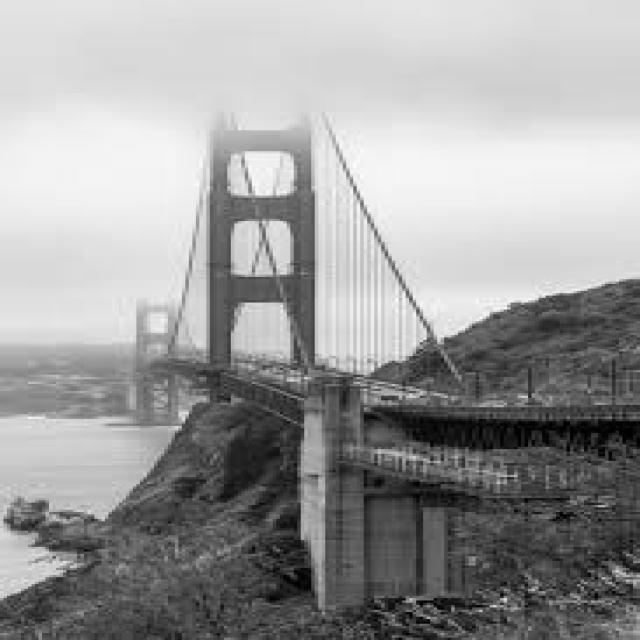Bridges: (59, 72, 636, 580)
